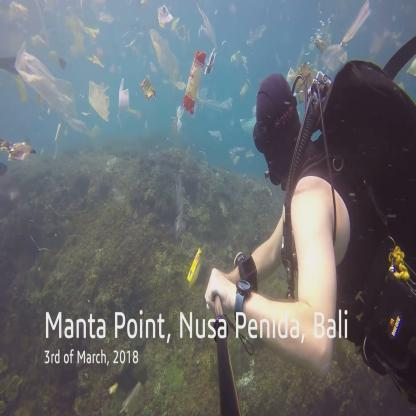Rác: (13, 46, 92, 150), (58, 10, 99, 76), (144, 23, 184, 87), (311, 19, 368, 63), (112, 70, 143, 130), (154, 6, 190, 46), (172, 177, 188, 265), (186, 46, 206, 115), (208, 84, 241, 120), (82, 75, 112, 113), (197, 6, 222, 50), (103, 168, 132, 205), (182, 240, 204, 282), (7, 3, 38, 31), (240, 24, 274, 43), (121, 35, 141, 58), (237, 76, 254, 102), (174, 108, 188, 138), (204, 125, 222, 146), (96, 10, 118, 26), (228, 143, 246, 159)
